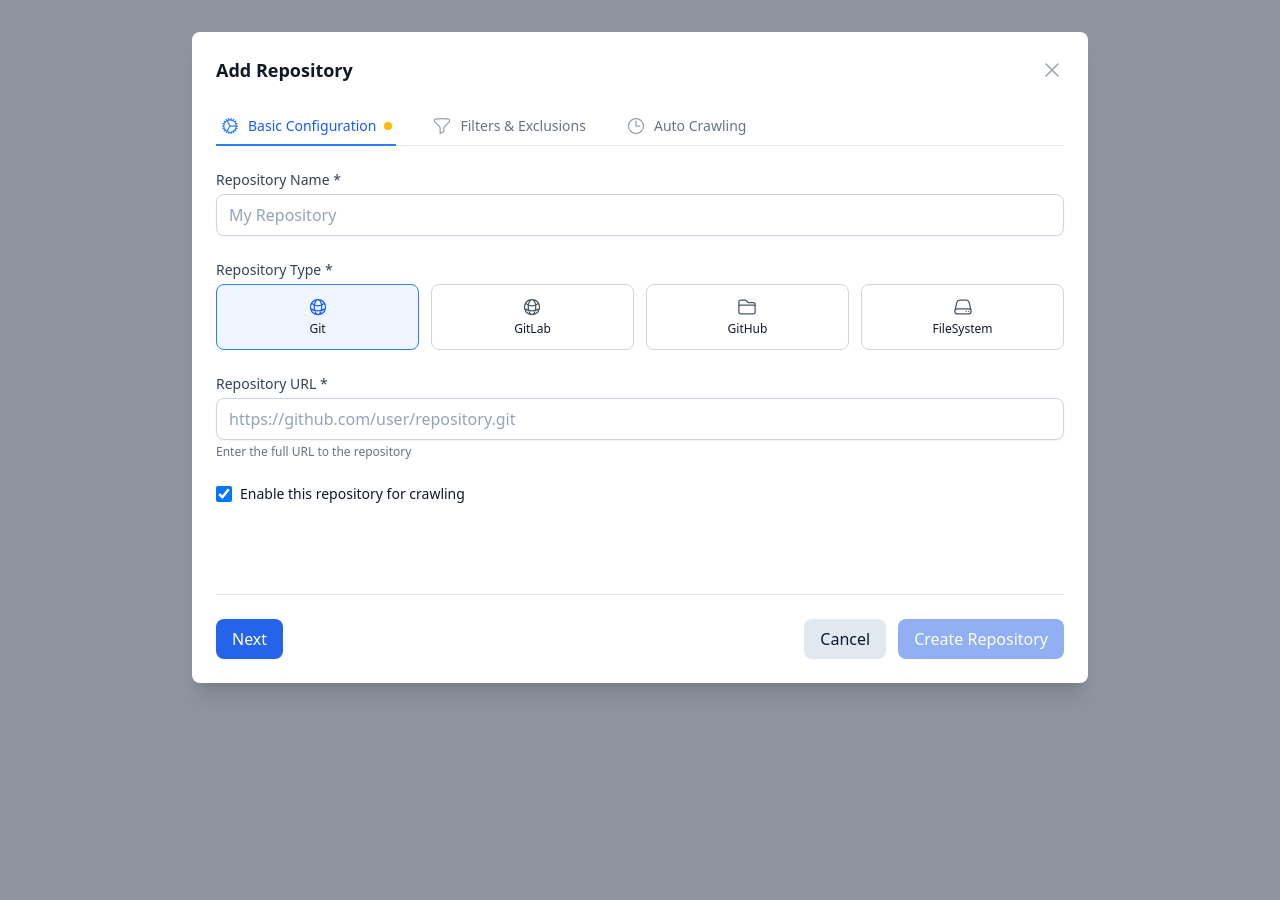
Test: RepositoryForm - Filtering Fields › Tab Visibility › should display branch selection section in filters tab
The image size is (1280, 900).
# Click Filters tab
Step 1. Click the button "Filters & Exclusions" → (509, 127), box top-left (428, 108), bottom-right (590, 146)
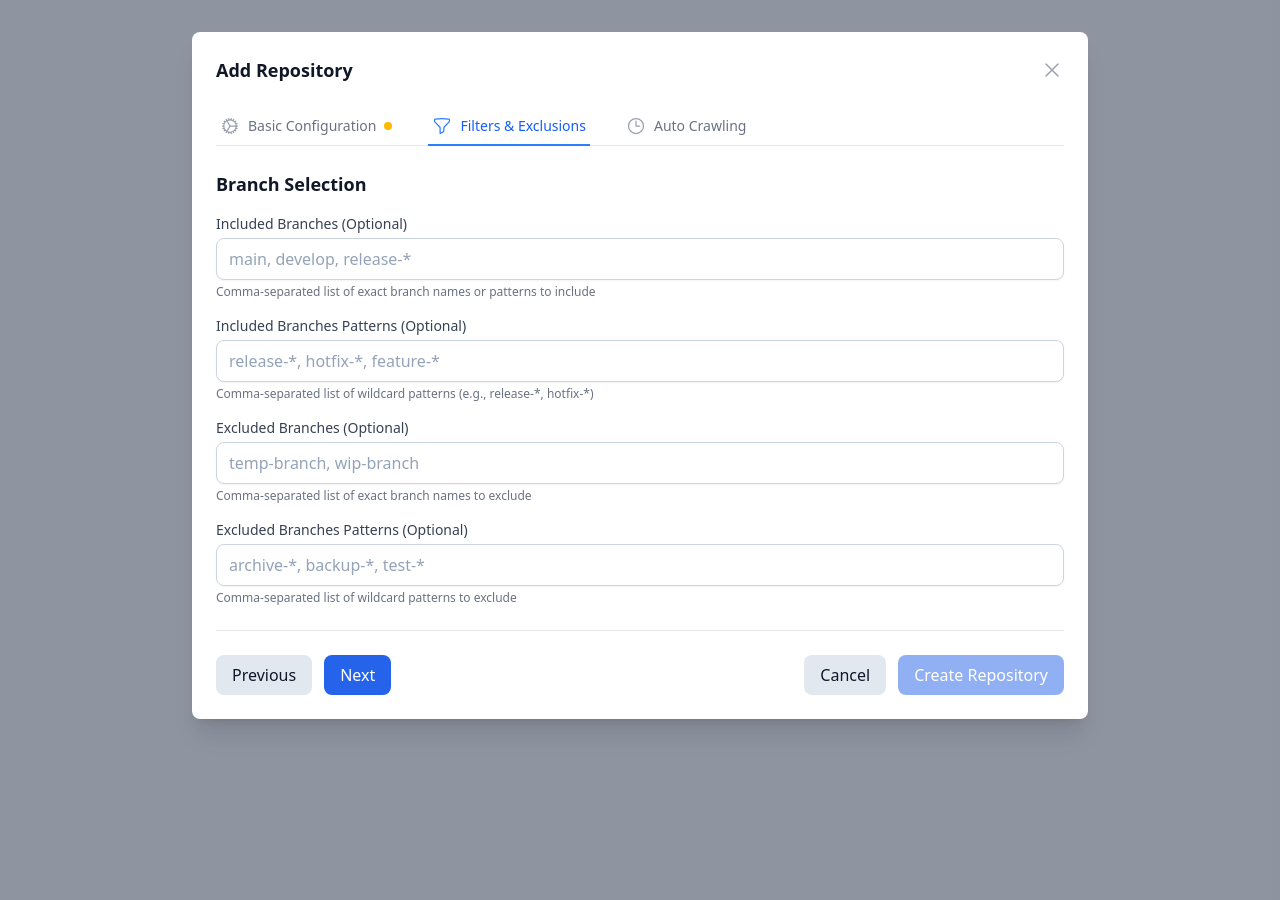
Expected: the heading "Branch Selection" is shown, top-left (216, 172), bottom-right (367, 196)
